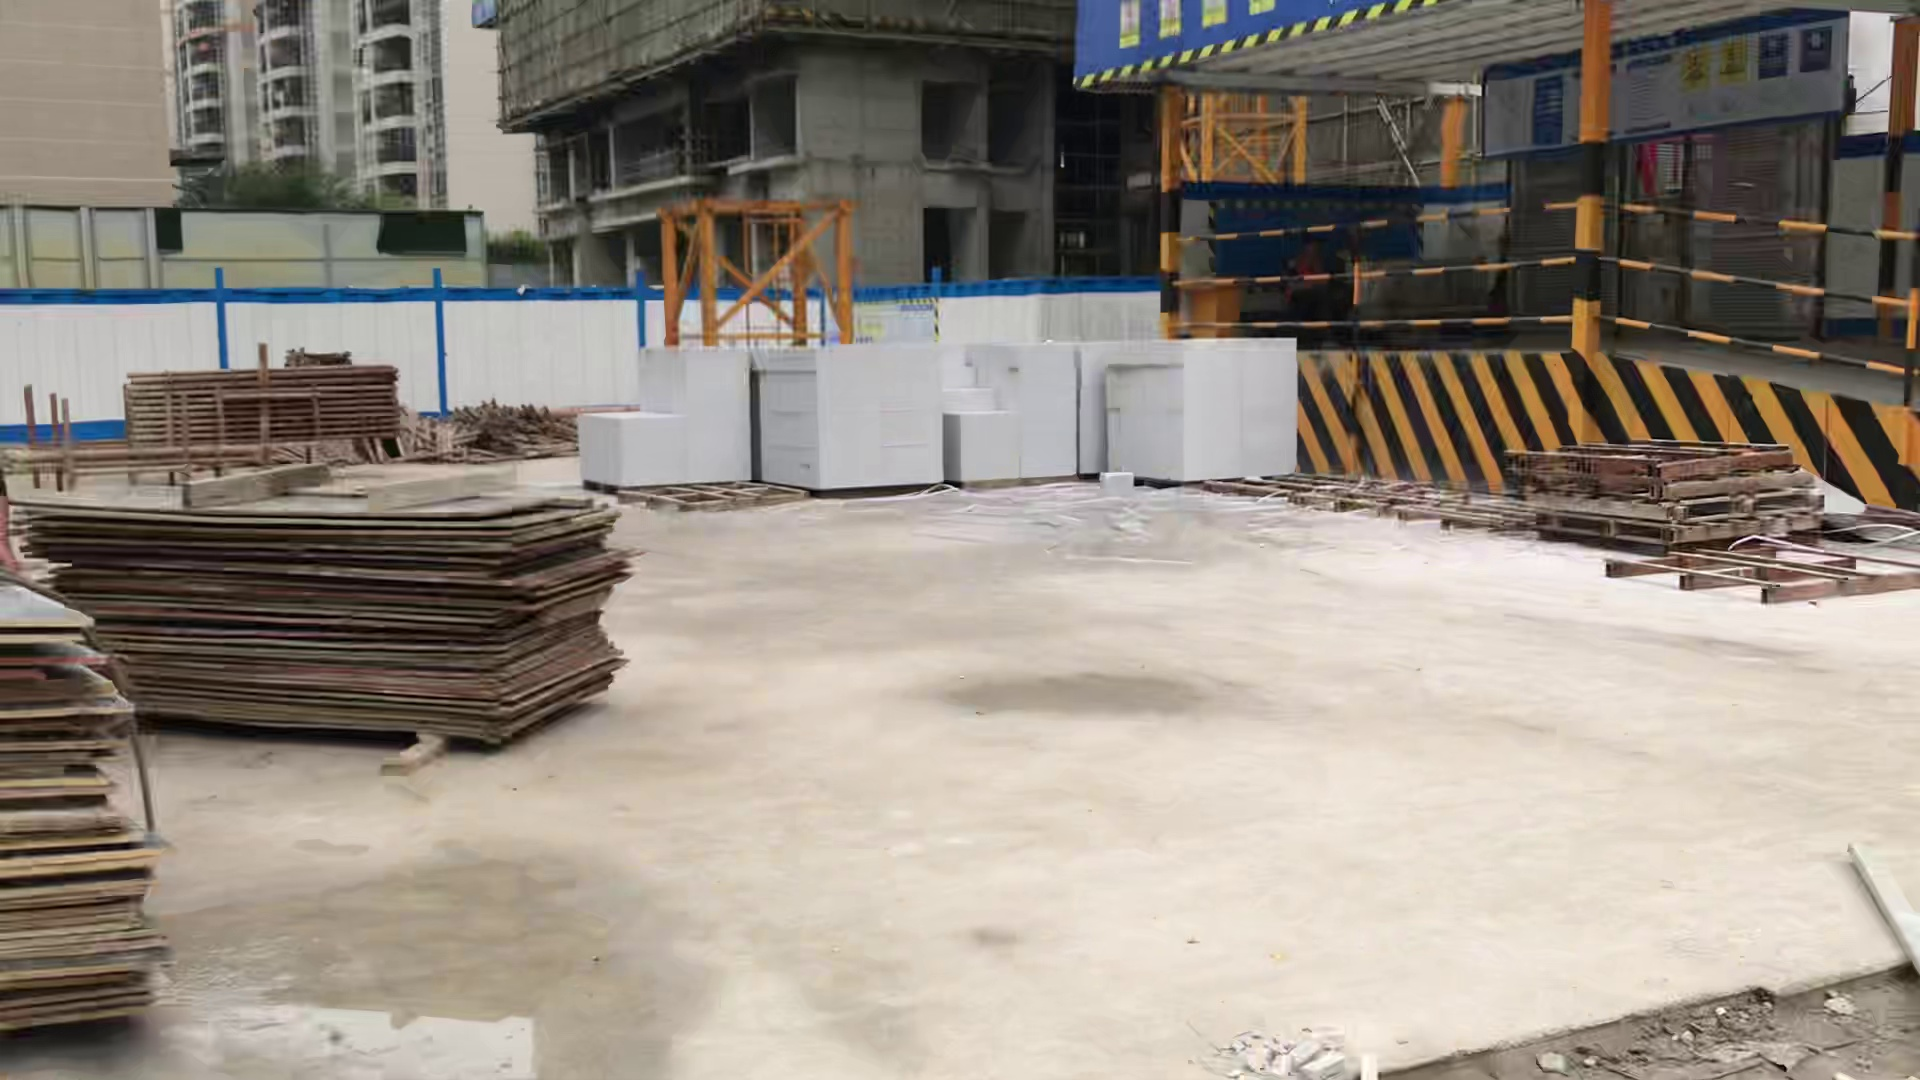board: (42, 458, 633, 738), (1, 578, 146, 1029)
brick: (585, 319, 764, 498), (1100, 331, 1298, 481), (760, 334, 945, 491), (952, 319, 1087, 485)
